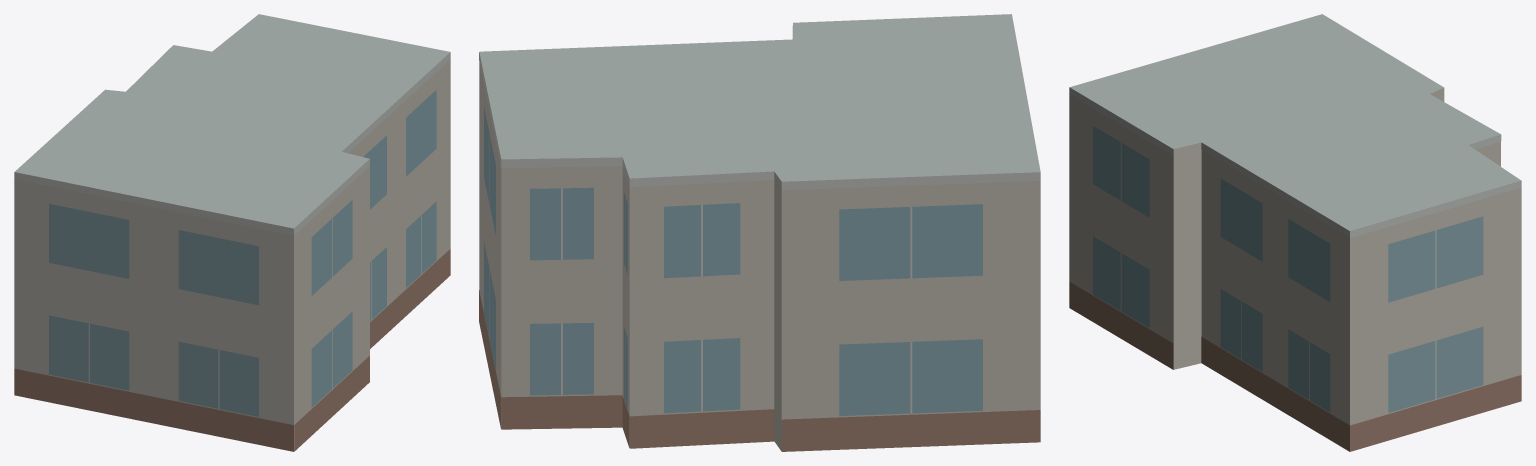
File: survey-upis-32986756.glb
3 renders of one model, left to right at view 1: azimuth 30°, elevation 25°; view 2: azimuth 150°, elevation 25°; view 3: azimuth 270°, elevation 25°, orthographic. The views are drawn at different scales.
Visible parts, largest first — view 1: survey-upis-32986756.tmp; view 2: survey-upis-32986756.tmp; view 3: survey-upis-32986756.tmp.
Part boxes in pixels (bbox=[...]): survey-upis-32986756.tmp: bbox=[14, 14, 450, 451]; survey-upis-32986756.tmp: bbox=[479, 14, 1040, 451]; survey-upis-32986756.tmp: bbox=[1069, 14, 1521, 451].
Bounding box in the file's own units: 16.15 × 7.65 × 14.21.
